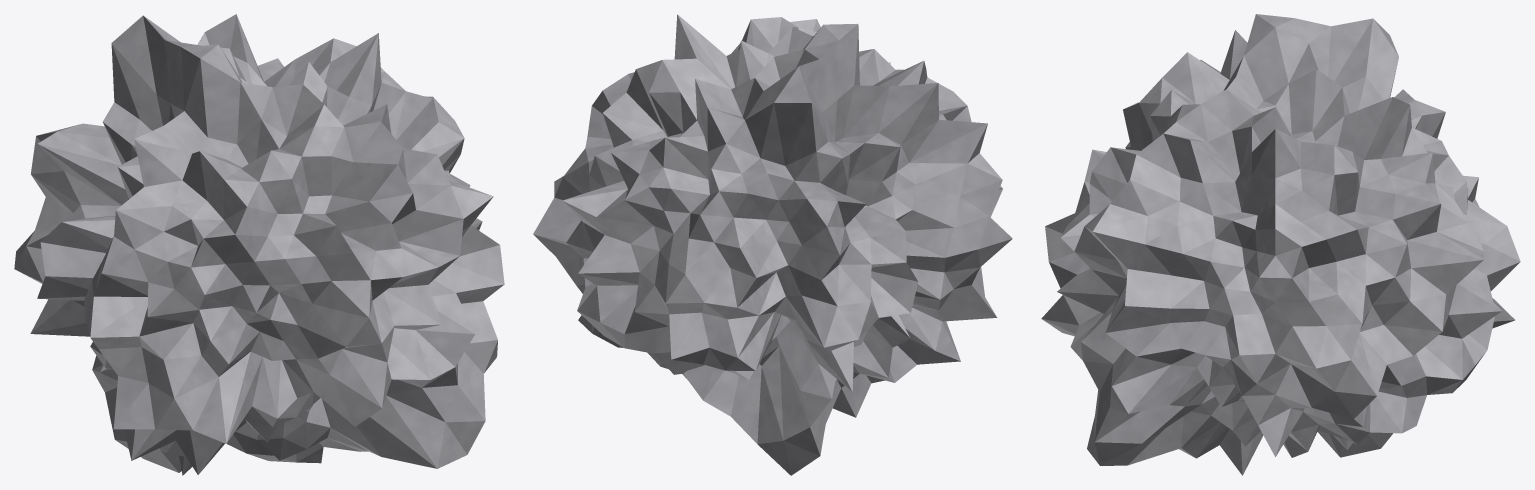
The picture shows the model from 3 angles, left to right: view 1: azimuth 30°, elevation 25°; view 2: azimuth 150°, elevation 25°; view 3: azimuth 270°, elevation 25°; orthographic projection. The views are drawn at different scales.
Parts seen in each view (by area): view 1: folie; view 2: folie; view 3: folie.
Boxes of the visible parts, left/top/right/bottom form: folie: left=14, top=14, right=504, bottom=475; folie: left=533, top=14, right=1012, bottom=475; folie: left=1041, top=14, right=1520, bottom=475.
Size of the model in its own units: 0.0552 by 0.054 by 0.0542.
1 material, 1 textured.
